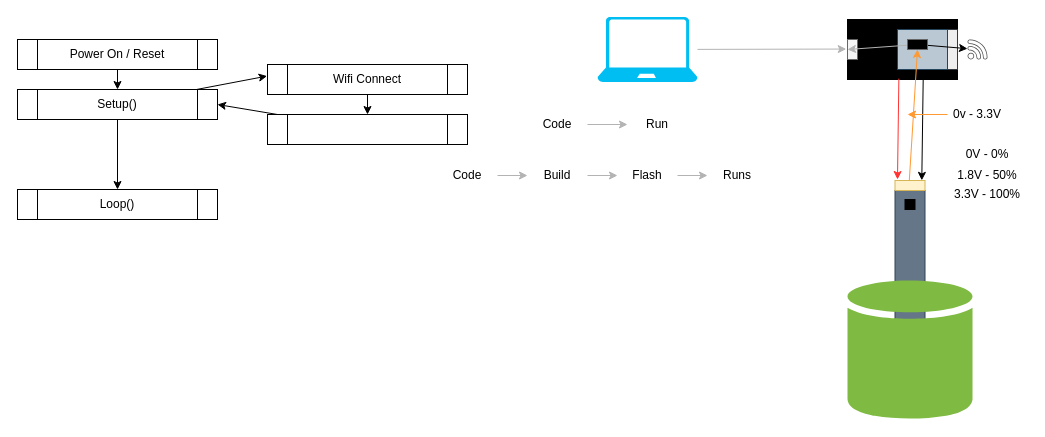
The diagram is 1045 pixels wide and 437 high, and some of its shapes have lost their labels. The box of each missing label's shape, as (x1, y1, x2, y2) in pixels:
C/C++: (597, 16, 697, 82)
Set Sleep Timer: (266, 114, 468, 144)
